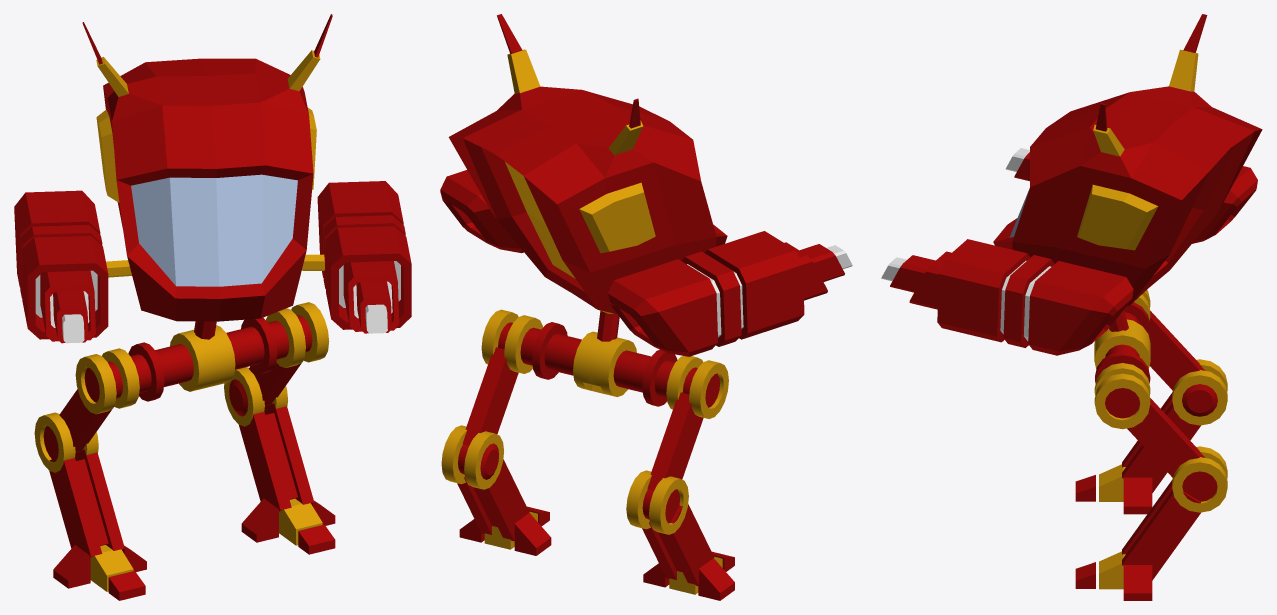
Rendered from Mech.fbx.
3 views of the same model, side by side, from view 1: azimuth 30°, elevation 25°; view 2: azimuth 150°, elevation 25°; view 3: azimuth 270°, elevation 25° (orthographic). The views are drawn at different scales.
Visible parts, largest first — view 1: Cube, Cube.005, Cylinder, Cube.003, Cube.004, Cylinder.001, Cube.002; view 2: Cube, Cube.005, Cylinder, Cylinder.001, Cube.003, Cube.002, Cube.004, Cube.001; view 3: Cube, Cube.005, Cylinder, Cylinder.001, Cube.003, Cube.004, Cube.002.
Part boxes in pixels (x1,y1,x2,y2): Cube: (82,14,332,321); Cube.005: (14,181,411,343); Cylinder: (75,302,329,414); Cube.003: (49,403,313,557); Cube.004: (53,498,335,600); Cylinder.001: (34,367,287,472); Cube.002: (59,361,302,451); Cube: (448,14,727,313); Cube.005: (440,170,852,356); Cylinder: (481,309,728,418); Cylinder.001: (441,425,688,534); Cube.003: (457,459,714,585); Cube.002: (462,347,703,490); Cube.004: (459,506,734,600); Cube.001: (597,310,619,341); Cube: (993,14,1262,305); Cube.005: (881,148,1257,355); Cylinder: (1094,290,1150,429); Cylinder.001: (1172,359,1227,512); Cube.003: (1122,392,1200,580); Cube.004: (1075,464,1152,600); Cube.002: (1127,310,1205,477).
Bounding box in the file's own units: 435 × 577 × 406.
